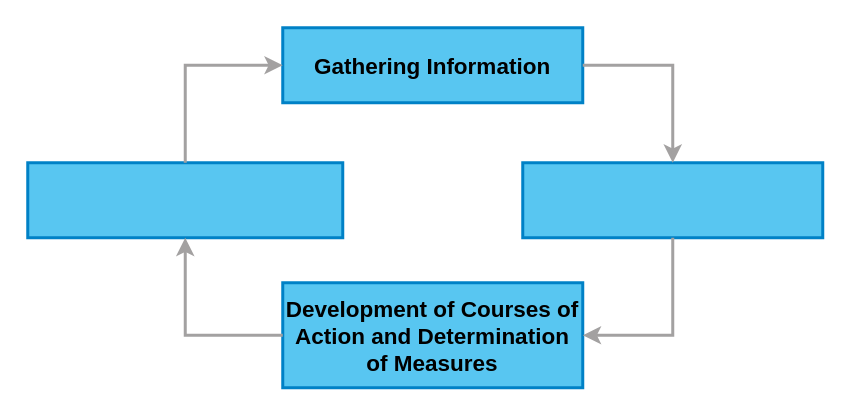
The diagram is 849 pixels wide and 414 high, and some of its shapes have lost their labels. The box of each missing label's shape, as (x1, y1, x2, y2) in pixels:
Evaluating the Situation: (520, 160, 824, 238)
Implementation and Control: (26, 160, 344, 238)
